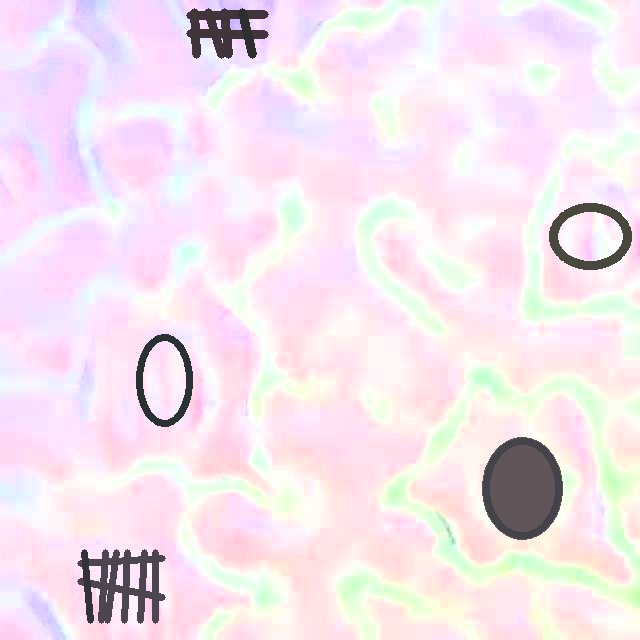close: (77, 549, 164, 623)
open: (482, 437, 562, 540), (548, 202, 632, 271), (137, 334, 192, 427), (186, 8, 267, 57)
